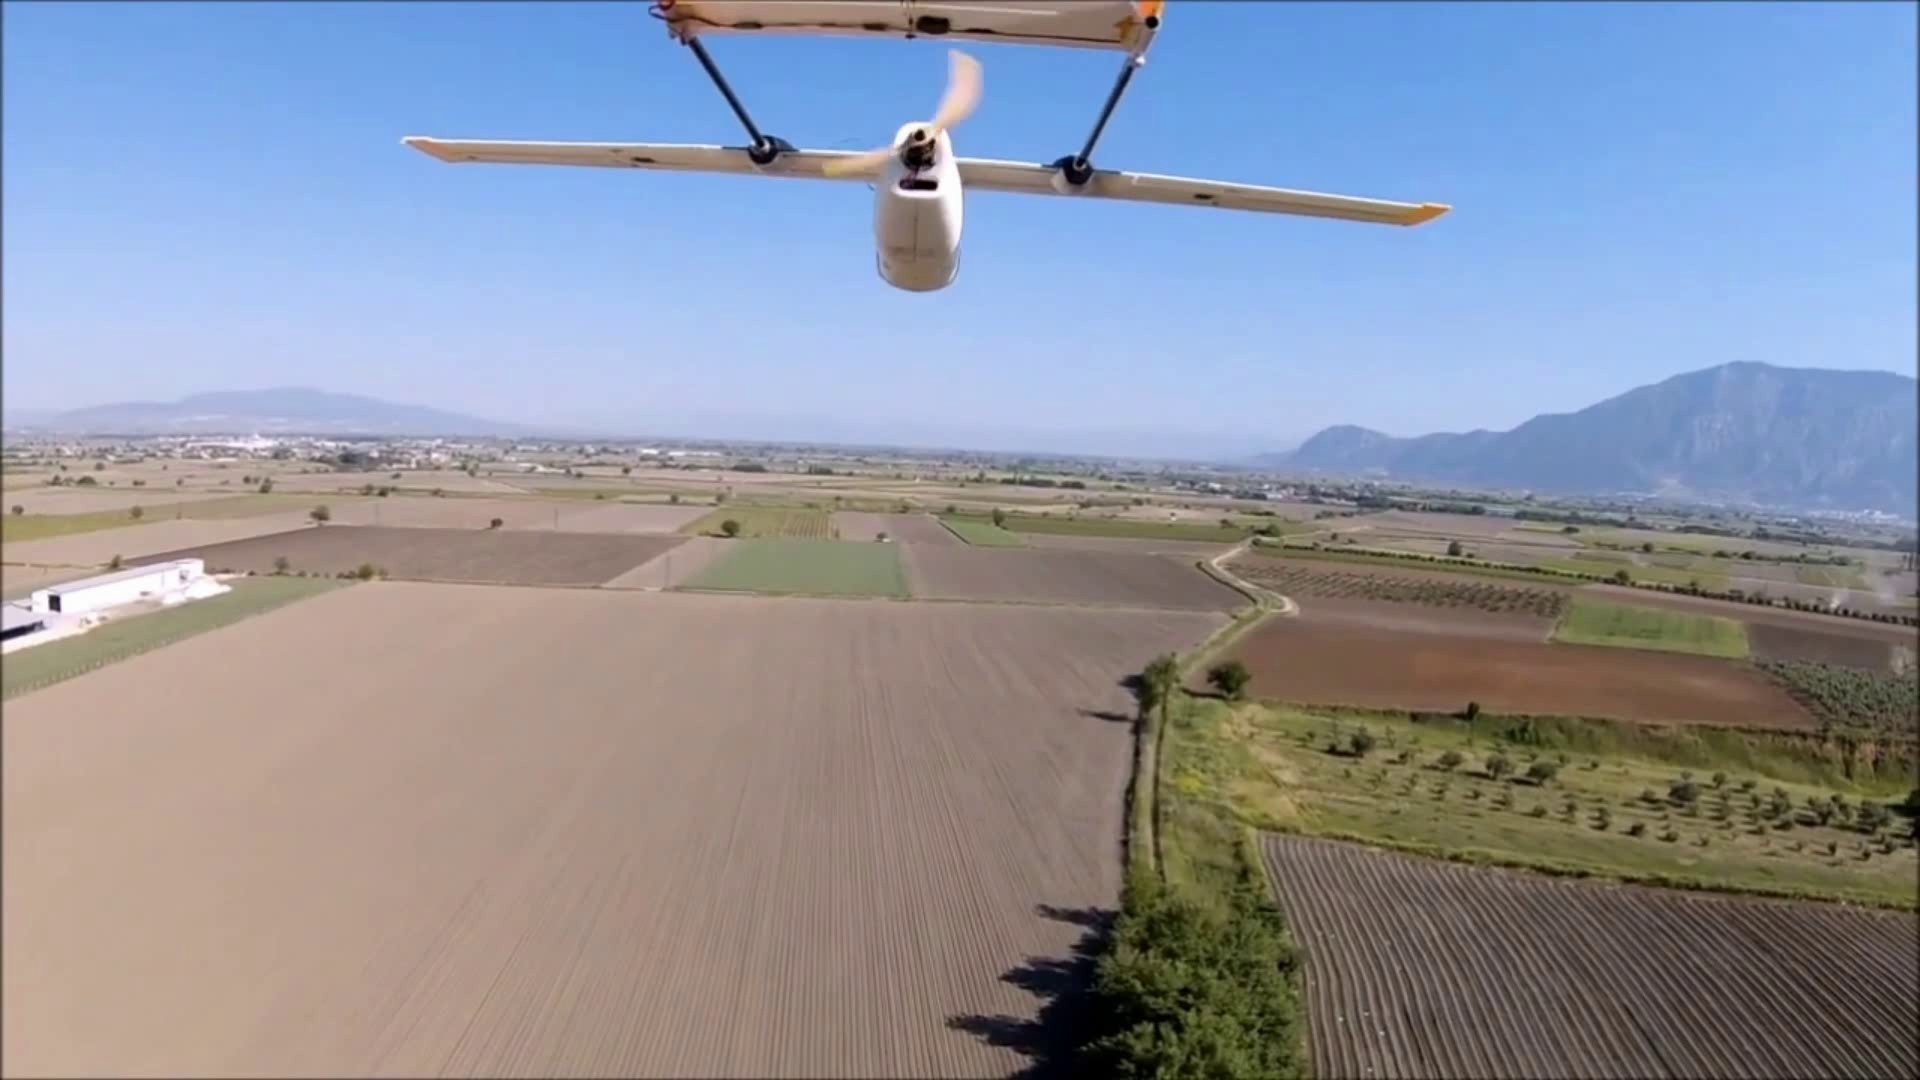airplane: (402, 5, 1445, 290)
